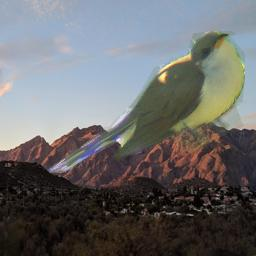Cuckoo: (46, 31, 245, 173)
